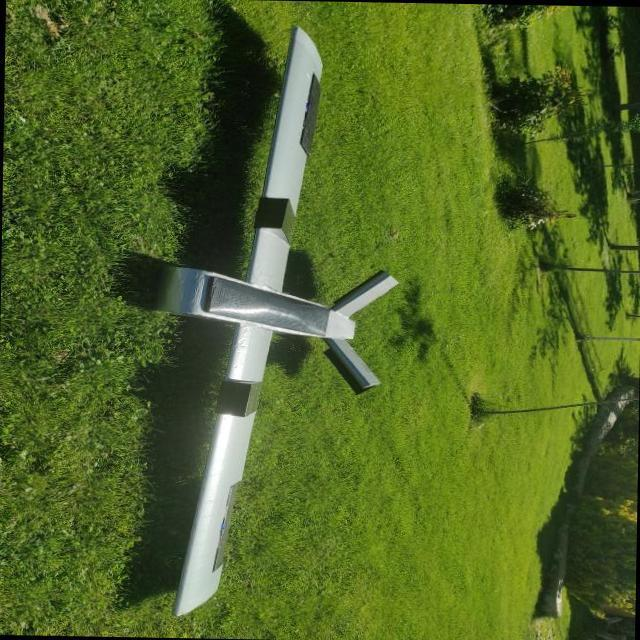iha: (116, 18, 422, 622)
